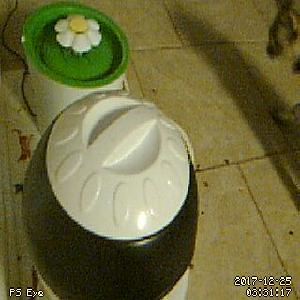cat: (263, 1, 300, 132)
fountain: (22, 3, 130, 89)
